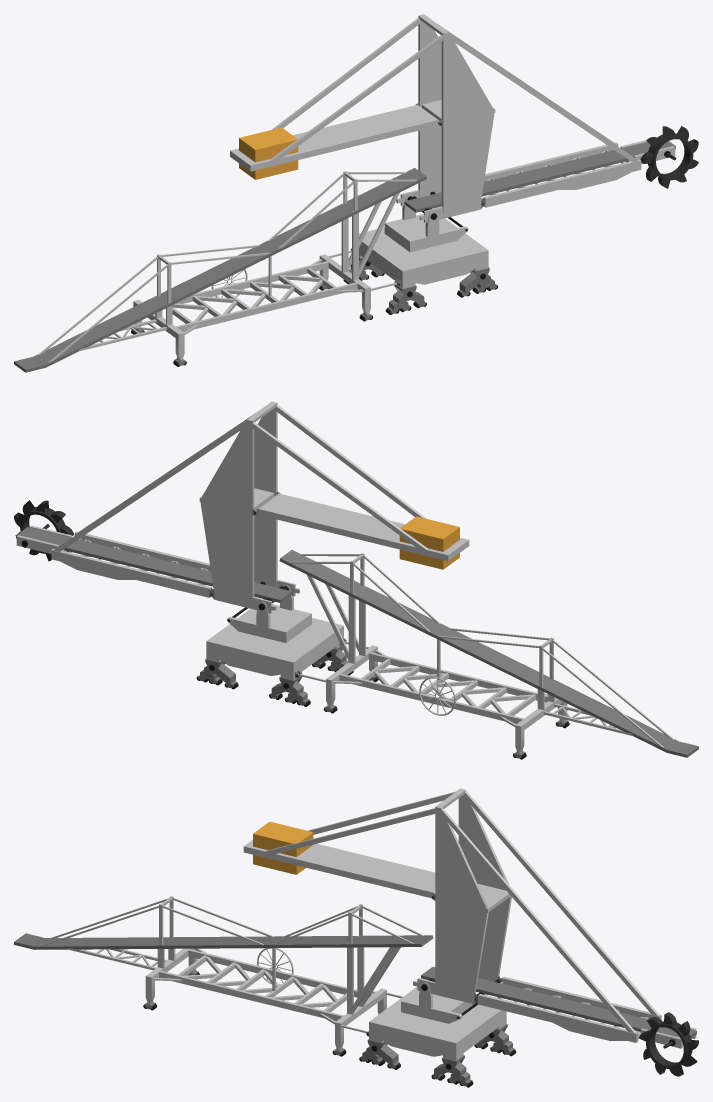
File: dushangang1208.fbx
3 views of the same model, one above another, from view 1: azimuth 30°, elevation 25°; view 2: azimuth 150°, elevation 25°; view 3: azimuth 330°, elevation 25° (orthographic).
Parts seen in each view (by area): view 1: budong, zhijia, pidai, zhuanzhou, doulun2; view 2: budong, zhijia, pidai, zhuanzhou, doulun2; view 3: zhijia, budong, pidai, doulun2, zhuanzhou.
Boxes of the visible parts, left/top/right/bottom form: budong: left=14, top=168, right=497, bottom=372; zhijia: left=230, top=14, right=675, bottom=222; pidai: left=404, top=141, right=675, bottom=212; zhuanzhou: left=384, top=194, right=468, bottom=252; doulun2: left=640, top=126, right=698, bottom=188; budong: left=196, top=550, right=698, bottom=759; zhijia: left=16, top=401, right=469, bottom=613; pidai: left=16, top=527, right=291, bottom=602; zhuanzhou: left=227, top=584, right=311, bottom=642; doulun2: left=14, top=500, right=73, bottom=561; zhijia: left=243, top=788, right=696, bottom=1048; budong: left=14, top=896, right=516, bottom=1087; pidai: left=421, top=967, right=696, bottom=1037; doulun2: left=639, top=1012, right=698, bottom=1076; zhuanzhou: left=401, top=979, right=477, bottom=1023.
Size of the model in its own units: 937 by 345 by 126.
